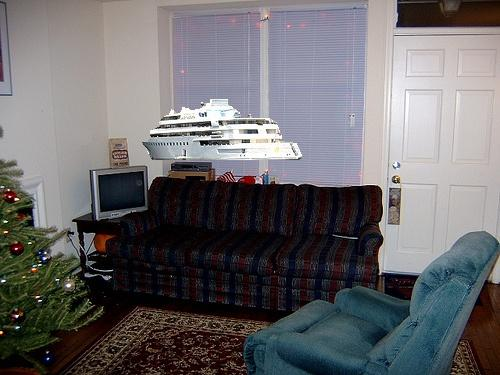tampered: (143, 100, 302, 160)
